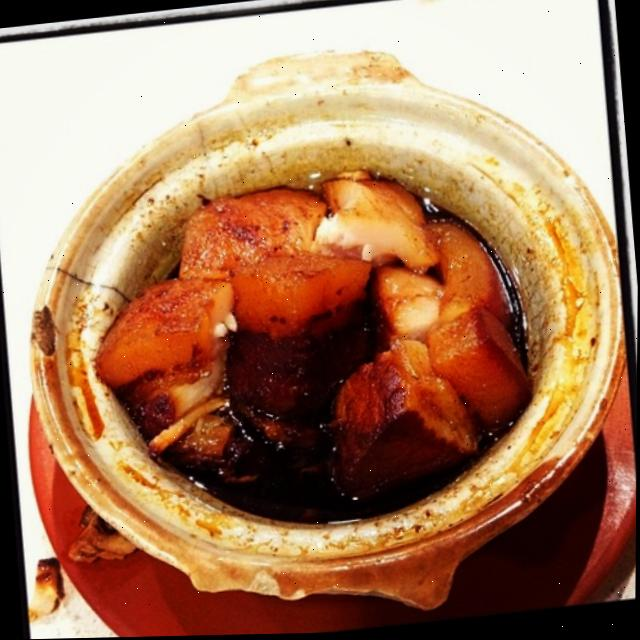牛肉菜式: (22, 22, 630, 640)
